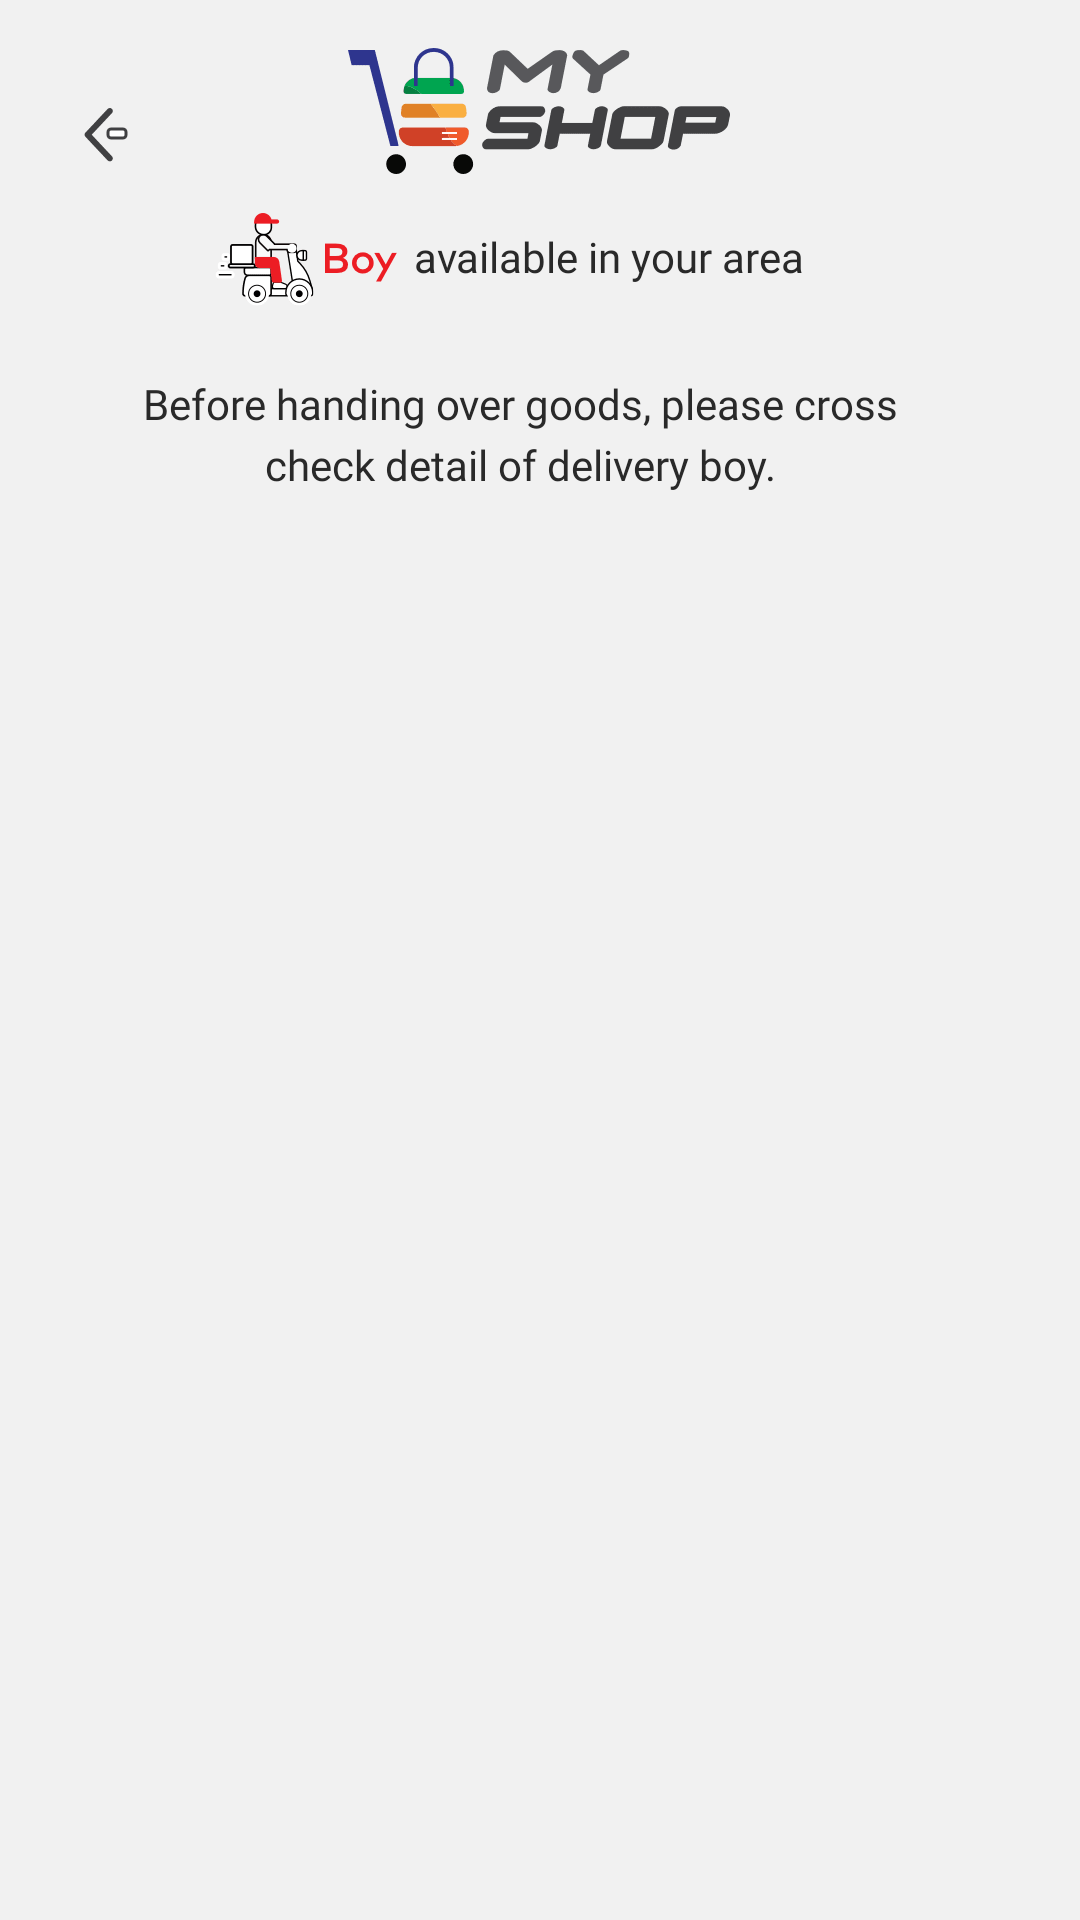

Screen size 1080px x 1920px. Icon name, then its box in pixels as (x1, y1, x2, y2):
back arrow: (84, 108, 128, 162)
